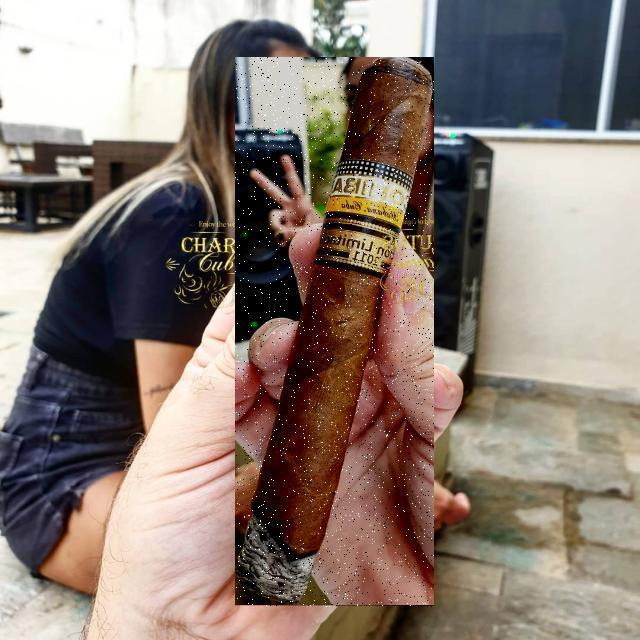smoking: (235, 58, 434, 608)
